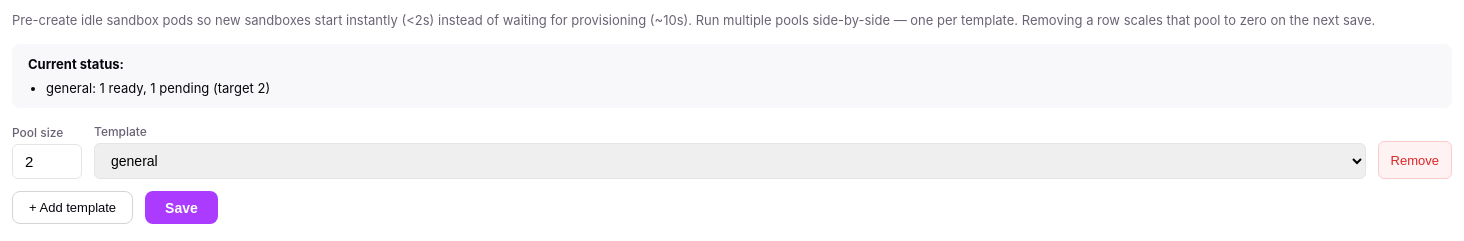
Test: WarmPoolEditor › removes a row when its remove button is clicked
The width and height of the screenshot is (1464, 241).
Expected: the element with test id "warm-pool-status" is shown, [12,44,1452,108]
Expected: the dropdown with test id "pool-row-template" is shown, [94,143,1366,179]
Click the button with test id "pool-row-remove". click: click(1415, 160)
box: [1378,141,1452,179]
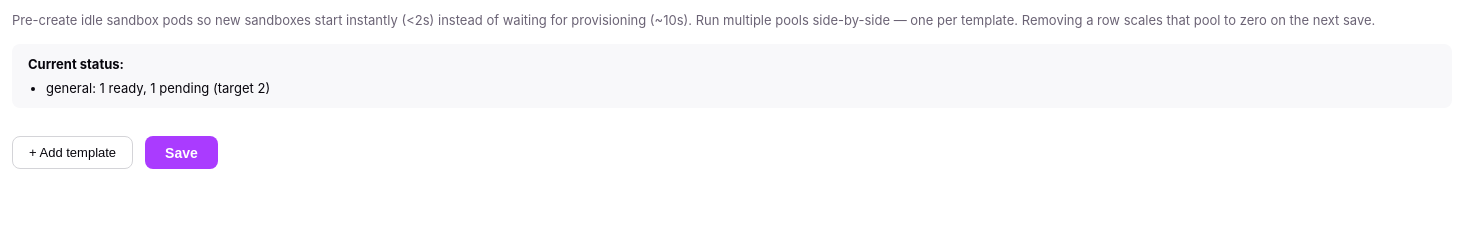
Now the dropdown with test id "pool-row-template" is gone
